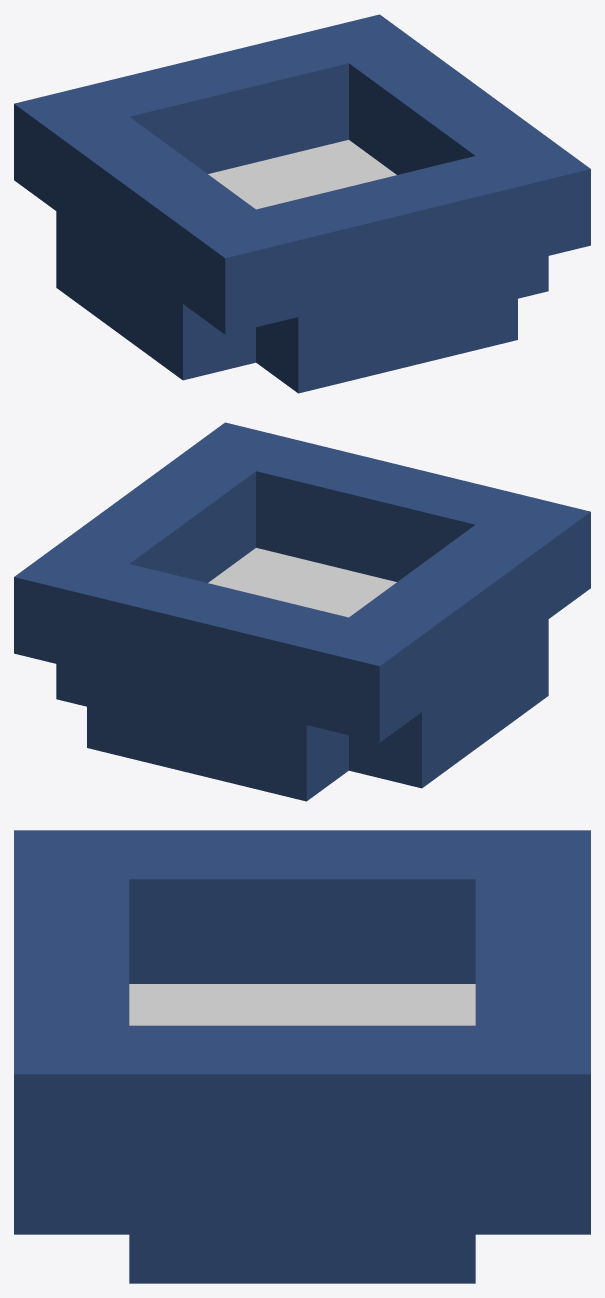
File: DinnerBowlSmall.obj
3 renders of one model, top to bottom at view 1: azimuth 30°, elevation 25°; view 2: azimuth 150°, elevation 25°; view 3: azimuth 270°, elevation 25°, orthographic. The views are drawn at different scales.
Parts seen in each view (by area): view 1: DinnerBowlSmall; view 2: DinnerBowlSmall; view 3: DinnerBowlSmall.
Part boxes in pixels (x1=…): DinnerBowlSmall: x1=14, y1=14, x2=590, y2=393; DinnerBowlSmall: x1=14, y1=422, x2=590, y2=801; DinnerBowlSmall: x1=14, y1=830, x2=590, y2=1283.
Size of the model in its own units: 5 by 2 by 5.
1 material, 1 textured.
